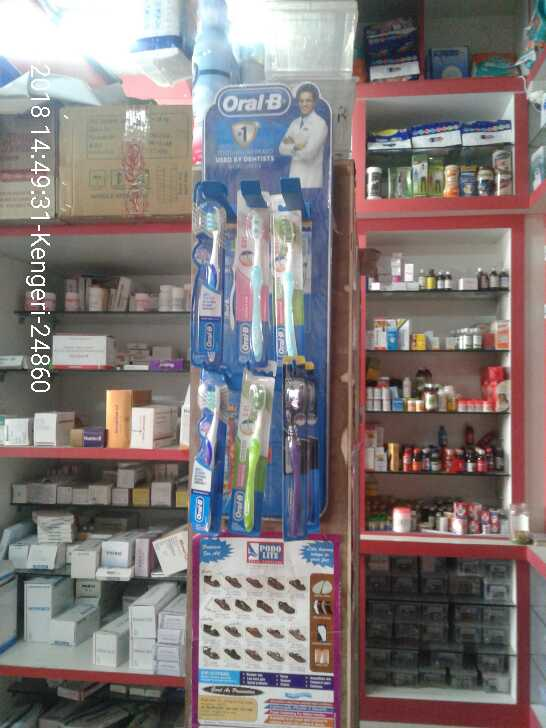oralb: (182, 204, 231, 361), (271, 373, 315, 543), (233, 372, 274, 533), (272, 217, 316, 363), (186, 377, 222, 530), (236, 202, 273, 341)
